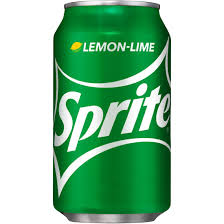sprite_can: (52, 1, 172, 224)
